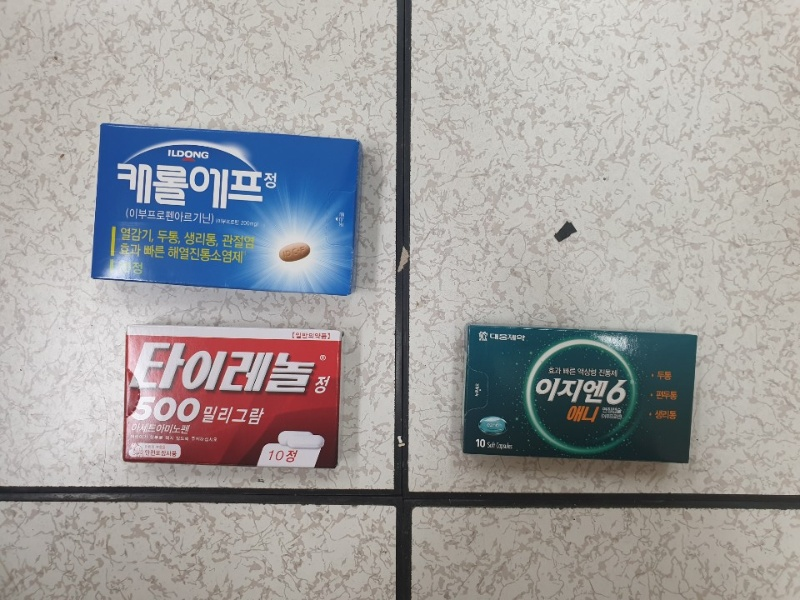carolF: (90, 122, 359, 292)
ezn: (466, 323, 694, 463)
tylenol: (124, 325, 338, 468)
